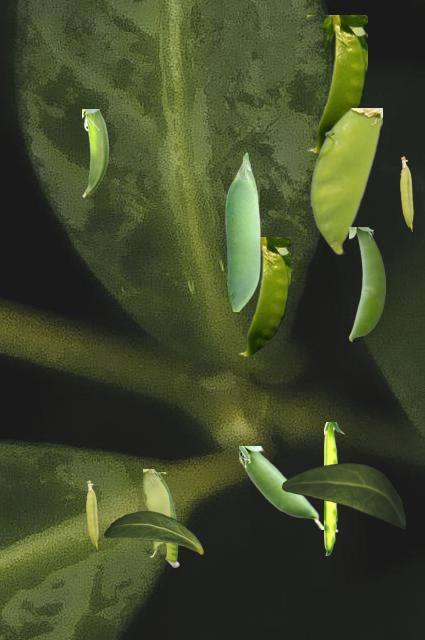pea: (310, 108, 381, 253), (307, 15, 366, 153), (239, 446, 323, 528), (238, 237, 289, 356), (225, 152, 259, 310), (349, 227, 384, 340), (324, 422, 343, 554), (82, 109, 109, 196), (143, 469, 170, 556), (157, 472, 178, 566), (400, 156, 412, 230), (86, 480, 97, 548)
